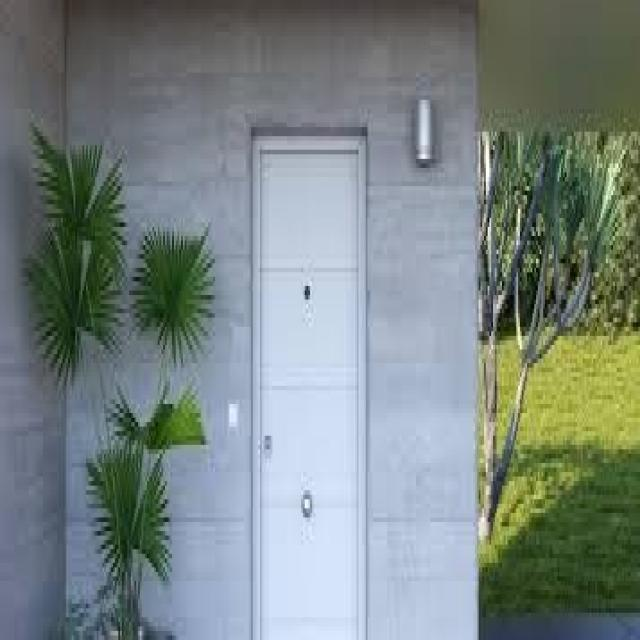door: (252, 129, 366, 638)
